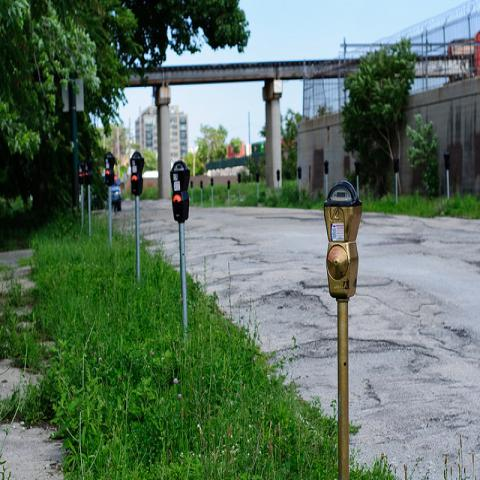car: (112, 178, 123, 213)
